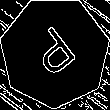P_SE: (26, 21, 84, 83)
